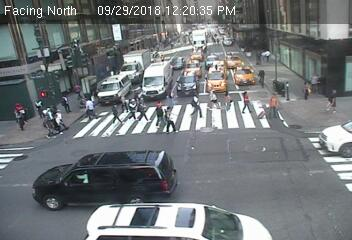car: (28, 148, 177, 210), (84, 203, 277, 240), (318, 115, 352, 155), (141, 60, 172, 100), (99, 73, 130, 102), (123, 49, 148, 83), (203, 68, 229, 94), (191, 26, 209, 50), (234, 67, 256, 86), (177, 77, 197, 96), (184, 60, 203, 78), (224, 51, 241, 68), (190, 49, 205, 61), (174, 55, 185, 69), (222, 35, 232, 46)
